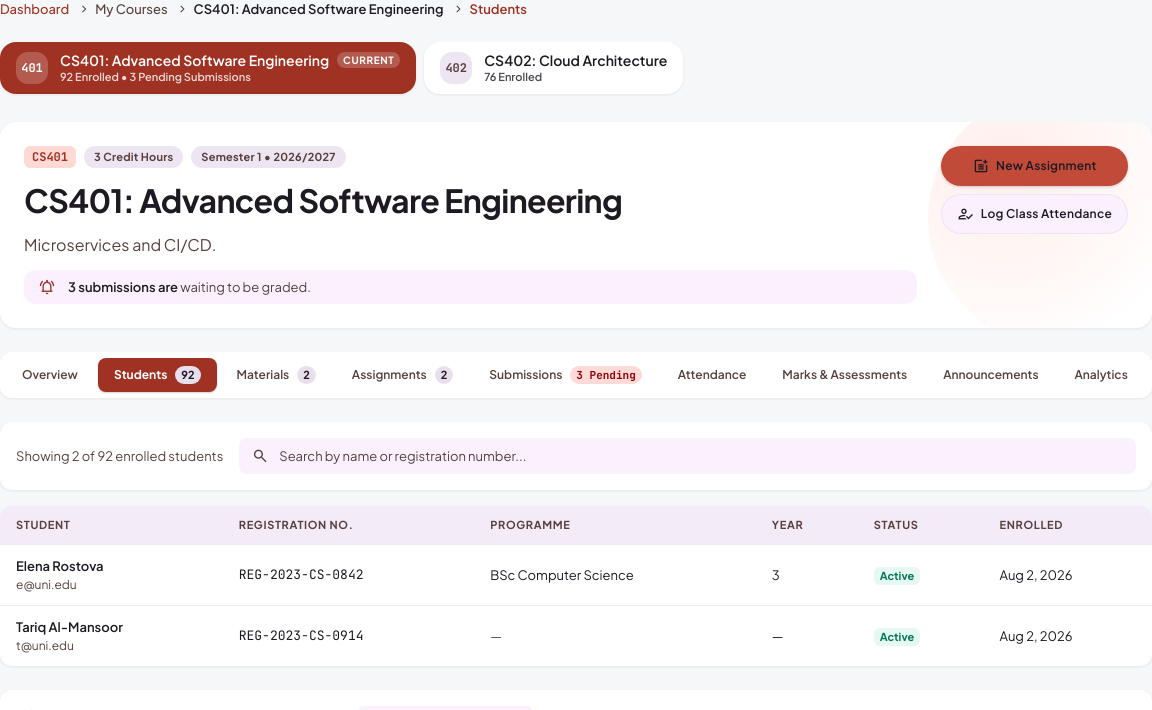
course workspace: tabs › searches the roster
The image size is (1152, 710).
Expected: the text "REG-2023-CS-0842" is shown, 223,544 -> 474,606
Expected: the text "Showing 2 of 92 enrolled students" is shown, 16,447 -> 223,465
Type "tariq" into the search field named "Search students" at (701, 456), box 277,447 -> 1124,465
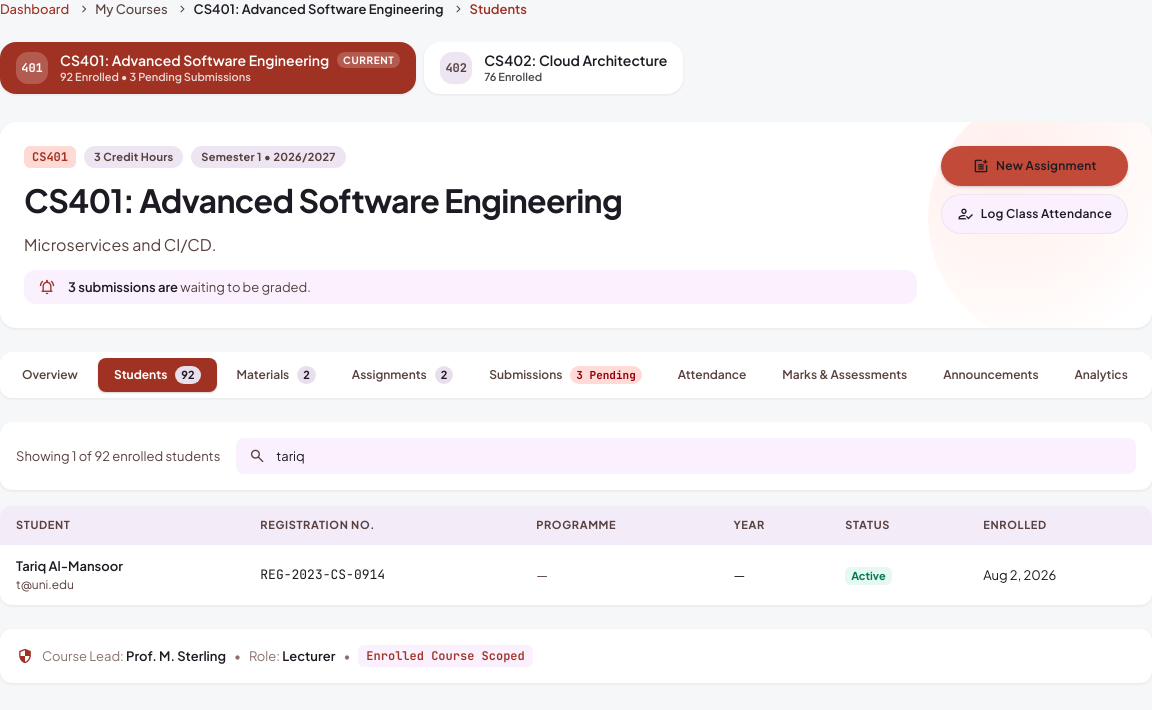
Expected: the text "REG-2023-CS-0914" is shown, 244,544 -> 520,605
Result: the text "REG-2023-CS-0842" is gone
Replace the text in the search field named "Search students" with "zzz" at (699, 456), box 274,447 -> 1124,465
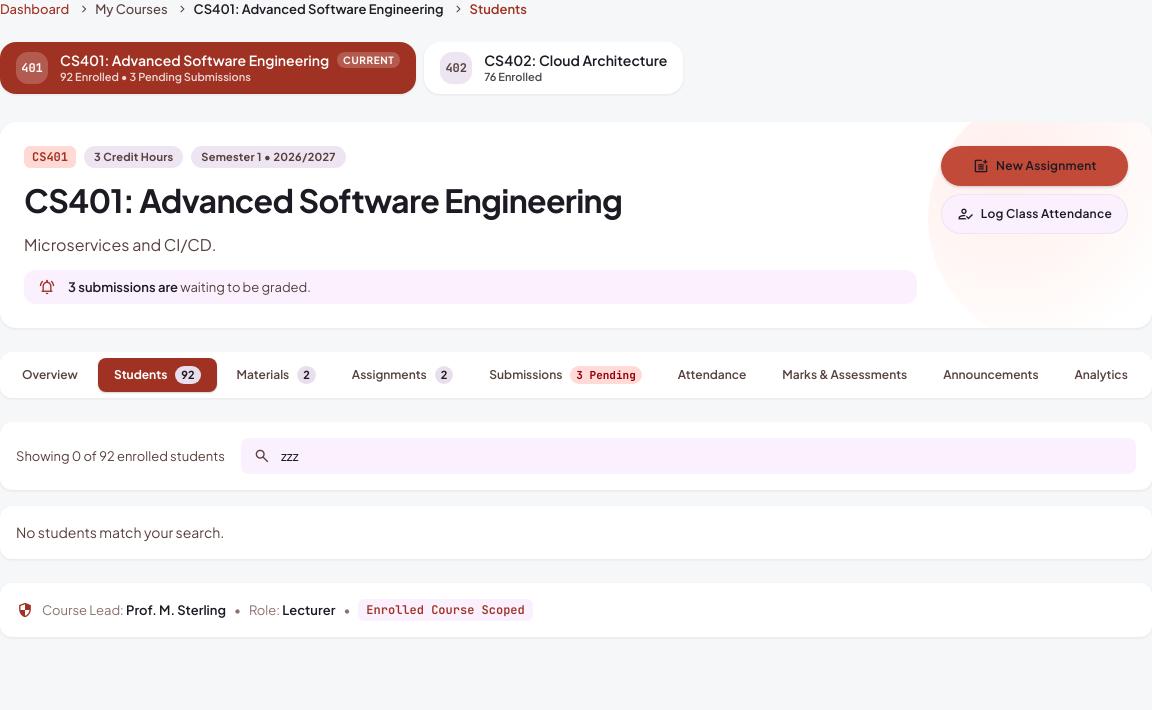
Result: the text "No students match your search." is shown at 16,522 -> 224,543
